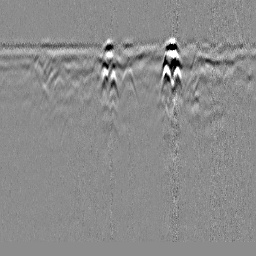cavity: (119, 66, 139, 100)
